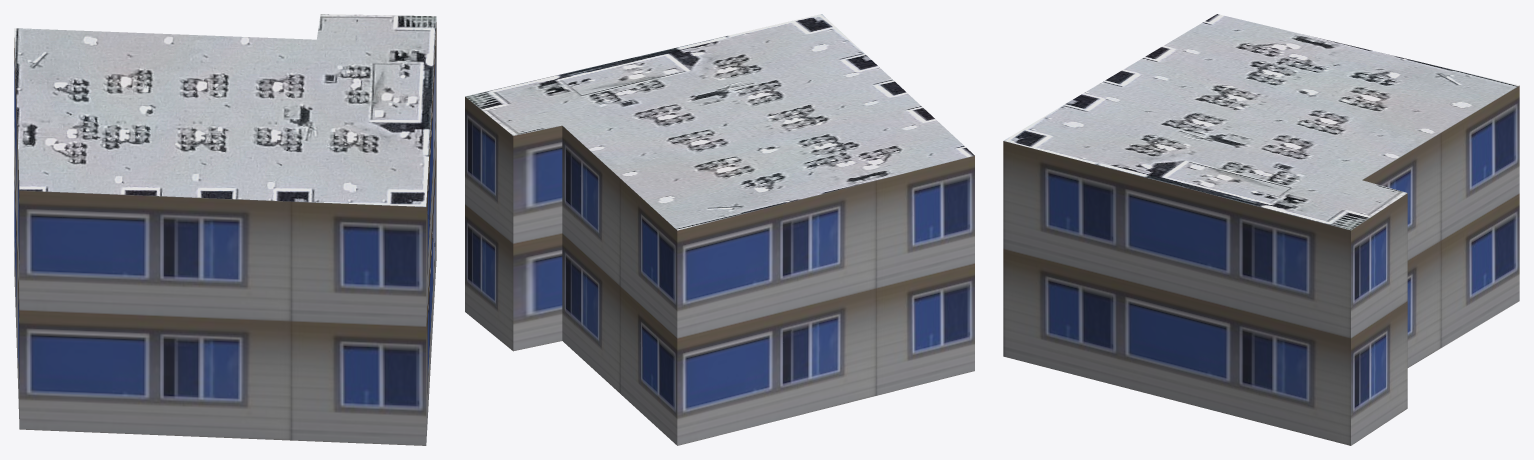
The model's file is ResTex__561.fbx.
The picture shows the model from 3 angles, left to right: view 1: azimuth 30°, elevation 25°; view 2: azimuth 150°, elevation 25°; view 3: azimuth 270°, elevation 25°; orthographic projection. The views are drawn at different scales.
Visible parts, largest first — view 1: CityEngineMaterial_23_m, CityEngineMaterial_4_m; view 2: CityEngineMaterial_23_m, CityEngineMaterial_4_m; view 3: CityEngineMaterial_23_m, CityEngineMaterial_4_m.
Part boxes in pixels (box(x1,y1,x2,y2)): CityEngineMaterial_23_m: box(14, 22, 436, 445); CityEngineMaterial_4_m: box(14, 14, 436, 206); CityEngineMaterial_23_m: box(465, 97, 974, 445); CityEngineMaterial_4_m: box(465, 14, 974, 230); CityEngineMaterial_23_m: box(1003, 85, 1519, 445); CityEngineMaterial_4_m: box(1003, 14, 1519, 230).
Bounding box in the file's own units: 12.91 × 6 × 13.02.
Materials: 2 (2 with a texture image).
